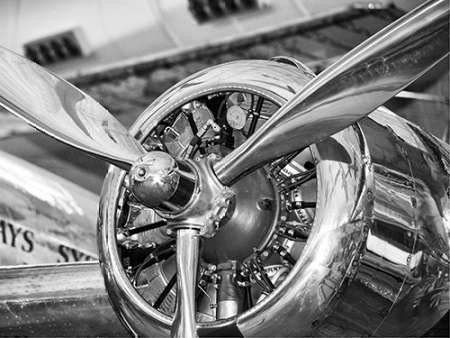Propeller: (1, 37, 433, 333)
